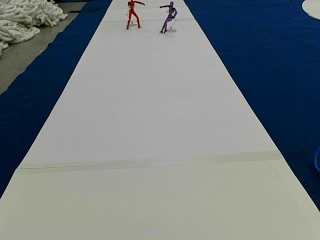pedestrian: (158, 1, 177, 32), (125, 0, 145, 29)
